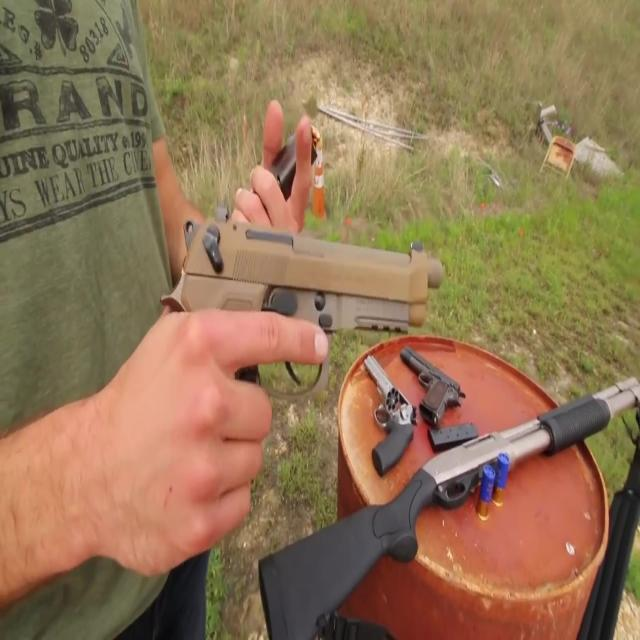Weapon: (133, 90, 640, 636)
